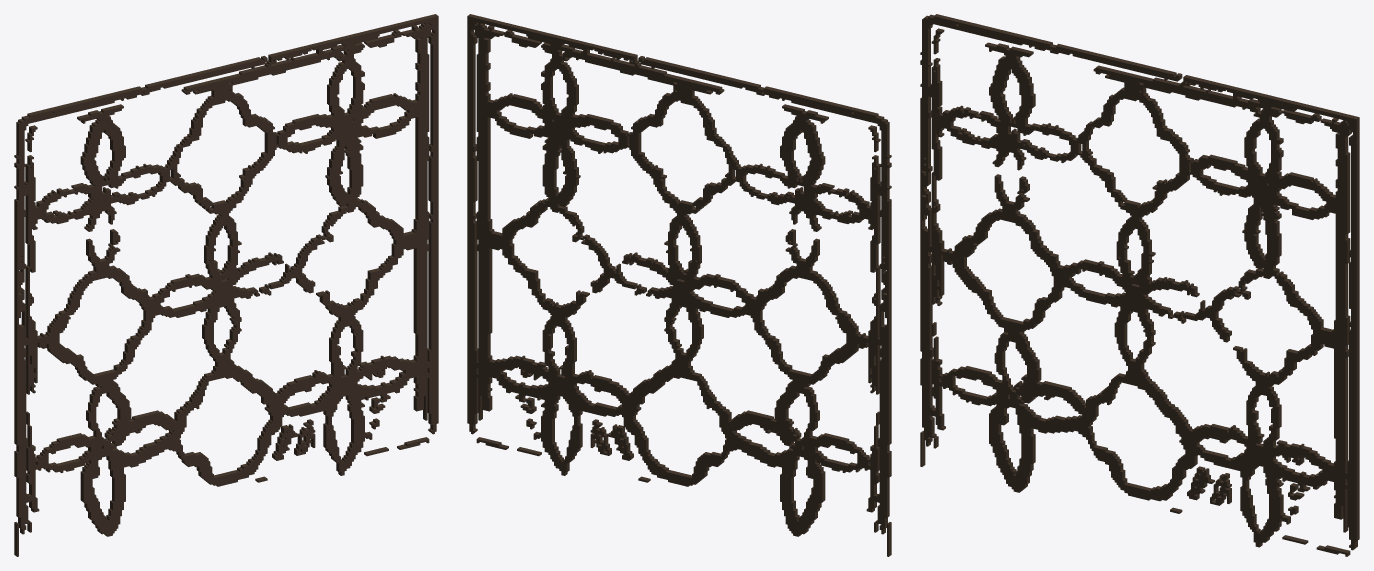
The model's file is lattice_window.glb.
3 views of the same model, side by side, from view 1: azimuth 30°, elevation 25°; view 2: azimuth 150°, elevation 25°; view 3: azimuth 330°, elevation 25° (orthographic). The views are drawn at different scales.
Visible parts, largest first — view 1: Lattice_Silhouette; view 2: Lattice_Silhouette; view 3: Lattice_Silhouette.
Part boxes in pixels (x1,y1,x2,y2): Lattice_Silhouette: (14,14,438,556); Lattice_Silhouette: (467,14,891,556); Lattice_Silhouette: (920,14,1359,556).
Size of the model in its own units: 1.5 by 1.5 by 0.0179.
